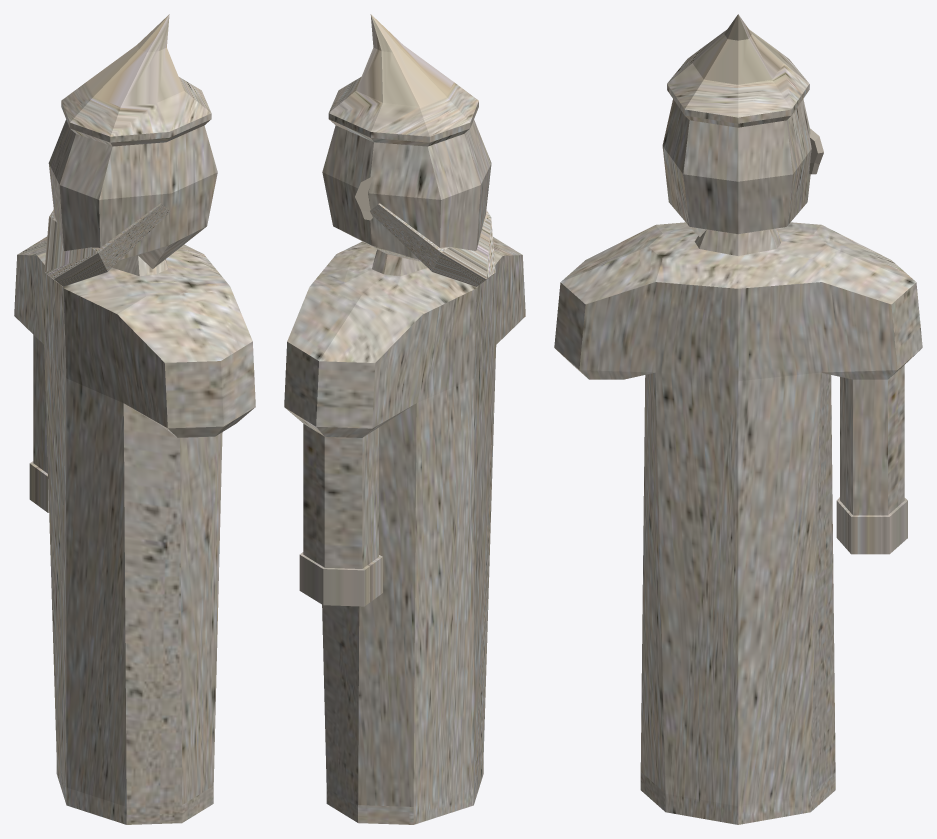
Rendered from Statue7.fbx.
The picture shows the model from 3 angles, left to right: view 1: azimuth 30°, elevation 25°; view 2: azimuth 150°, elevation 25°; view 3: azimuth 270°, elevation 25°; orthographic projection. The views are drawn at different scales.
Visible parts, largest first — view 1: Circle, Cube.001; view 2: Circle, Cube.001, Circle.001; view 3: Circle.
Boxes of the visible parts, box(x1,y1,x2,y2) form: Circle: box(14, 14, 255, 824); Cube.001: box(44, 203, 170, 286); Circle: box(284, 14, 525, 824); Cube.001: box(370, 203, 495, 286); Circle.001: box(355, 176, 373, 220); Circle: box(554, 14, 922, 824).
Bounding box in the file's own units: 45.35 × 212 × 89.1.
